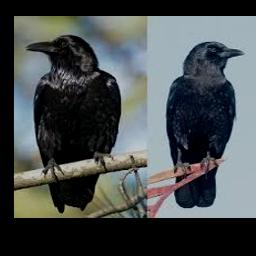Crow: (25, 35, 122, 213), (165, 40, 246, 208)
